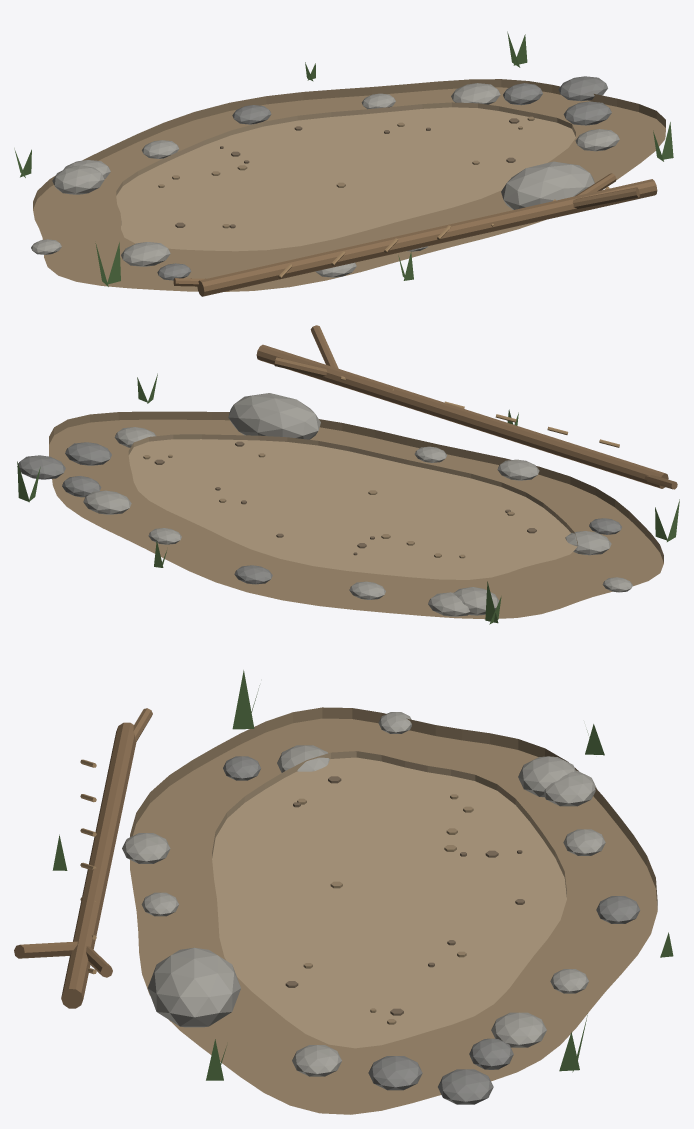
File: Primitive Shelter.glb
3 renders of one model, top to bottom at view 1: azimuth 30°, elevation 25°; view 2: azimuth 150°, elevation 25°; view 3: azimuth 270°, elevation 25°, orthographic. The views are drawn at different scales.
Visible parts, largest first — view 1: inner_cleared_dirt, cleared_sleeping_ground, main_cleaning_branch, pushed_stone_large, pushed_stone_small_a, edge_stone_07, edge_stone_15, edge_stone_00, edge_stone_14, edge_stone_01, branch_fork_a, pushed_stone_small_b (+4 smaller); view 2: inner_cleared_dirt, cleared_sleeping_ground, main_cleaning_branch, pushed_stone_large, edge_stone_14, edge_stone_15, edge_stone_00, edge_stone_07, pushed_stone_small_a, edge_stone_10, edge_stone_05, pushed_stone_small_b (+5 smaller); view 3: inner_cleared_dirt, cleared_sleeping_ground, main_cleaning_branch, pushed_stone_large, edge_stone_15, edge_stone_14, edge_stone_00, pushed_stone_small_a, edge_stone_10, edge_stone_01, edge_stone_05, pushed_stone_small_b (+8 smaller).
Boxes of the visible parts, <box> form: inner_cleared_dirt: <box>116,102,575,251</box>; cleared_sleeping_ground: <box>33,79,665,291</box>; main_cleaning_branch: <box>197,179,657,296</box>; pushed_stone_large: <box>501,161,594,209</box>; pushed_stone_small_a: <box>52,165,104,194</box>; edge_stone_07: <box>121,242,170,266</box>; edge_stone_15: <box>558,76,607,101</box>; edge_stone_00: <box>563,101,611,125</box>; edge_stone_14: <box>451,83,500,104</box>; edge_stone_01: <box>575,129,619,151</box>; branch_fork_a: <box>572,187,639,208</box>; pushed_stone_small_b: <box>503,83,542,105</box>; inner_cleared_dirt: <box>128,434,577,579</box>; cleared_sleeping_ground: <box>49,411,663,619</box>; main_cleaning_branch: <box>256,344,668,488</box>; pushed_stone_large: <box>228,393,320,439</box>; edge_stone_14: <box>83,490,131,514</box>; edge_stone_15: <box>17,455,65,479</box>; edge_stone_00: <box>65,442,111,465</box>; edge_stone_07: <box>565,531,611,555</box>; pushed_stone_small_a: <box>453,587,499,615</box>; edge_stone_10: <box>428,592,470,616</box>; edge_stone_05: <box>497,459,539,480</box>; pushed_stone_small_b: <box>62,476,101,497</box>; inner_cleared_dirt: <box>212,751,566,1048</box>; cleared_sleeping_ground: <box>130,707,657,1114</box>; main_cleaning_branch: <box>61,722,136,1008</box>; pushed_stone_large: <box>147,947,240,1027</box>; edge_stone_15: <box>438,1069,493,1104</box>; edge_stone_14: <box>491,1012,546,1047</box>; edge_stone_00: <box>368,1056,422,1090</box>; pushed_stone_small_a: <box>518,756,575,797</box>; edge_stone_10: <box>543,770,596,806</box>; edge_stone_01: <box>292,1045,341,1076</box>; edge_stone_05: <box>122,833,170,863</box>; pushed_stone_small_b: <box>469,1038,513,1069</box>.
Size of the model in its own units: 4.61 by 0.4791 by 3.27.
